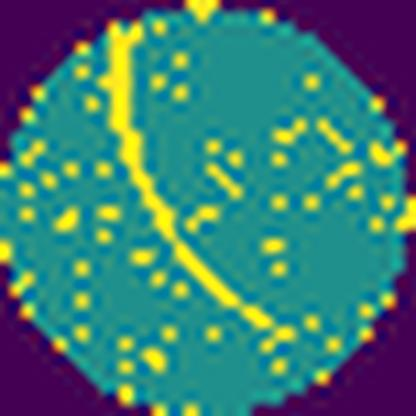Scratch: (89, 15, 279, 335)
